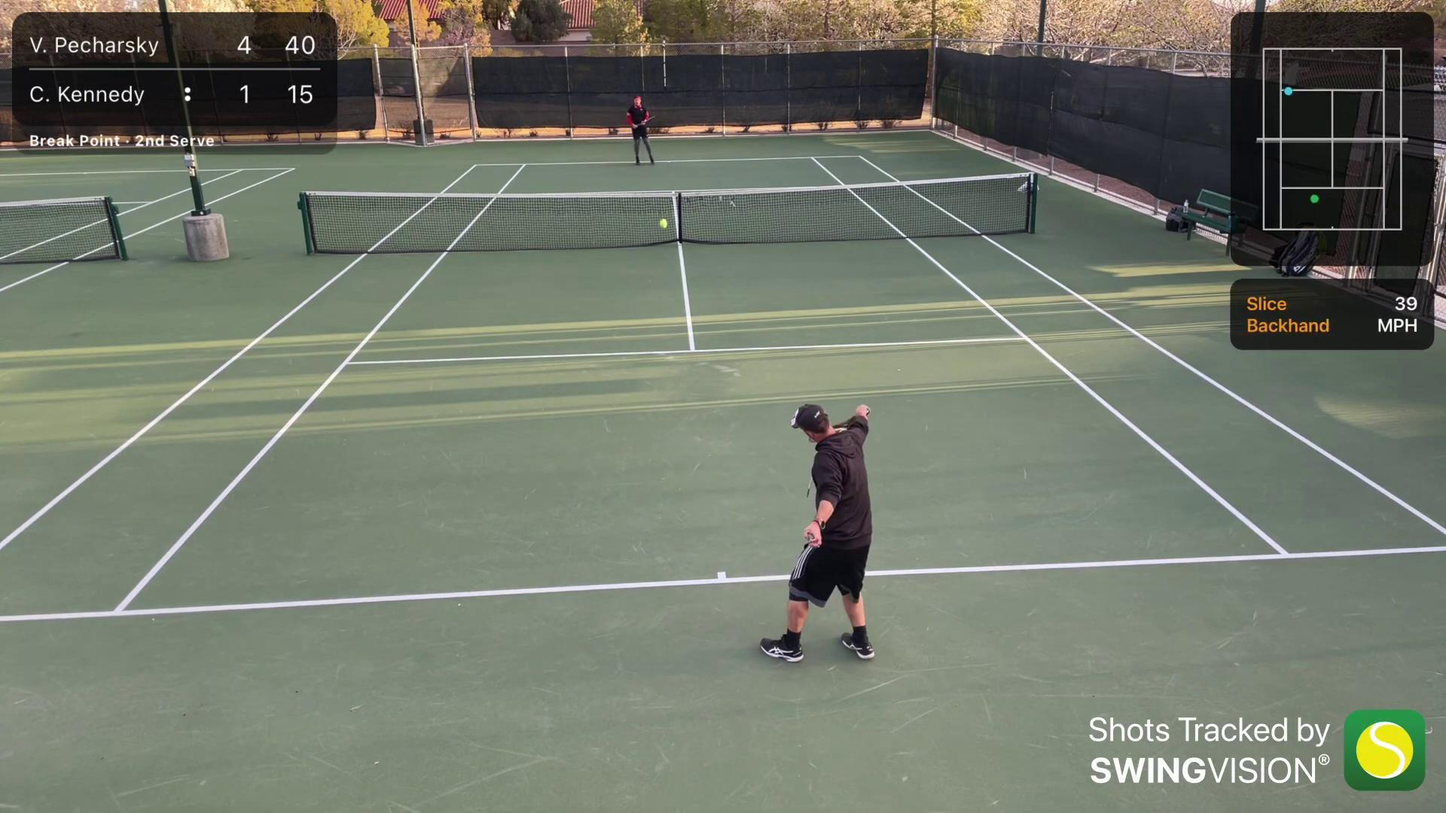ball: (658, 216, 669, 230)
